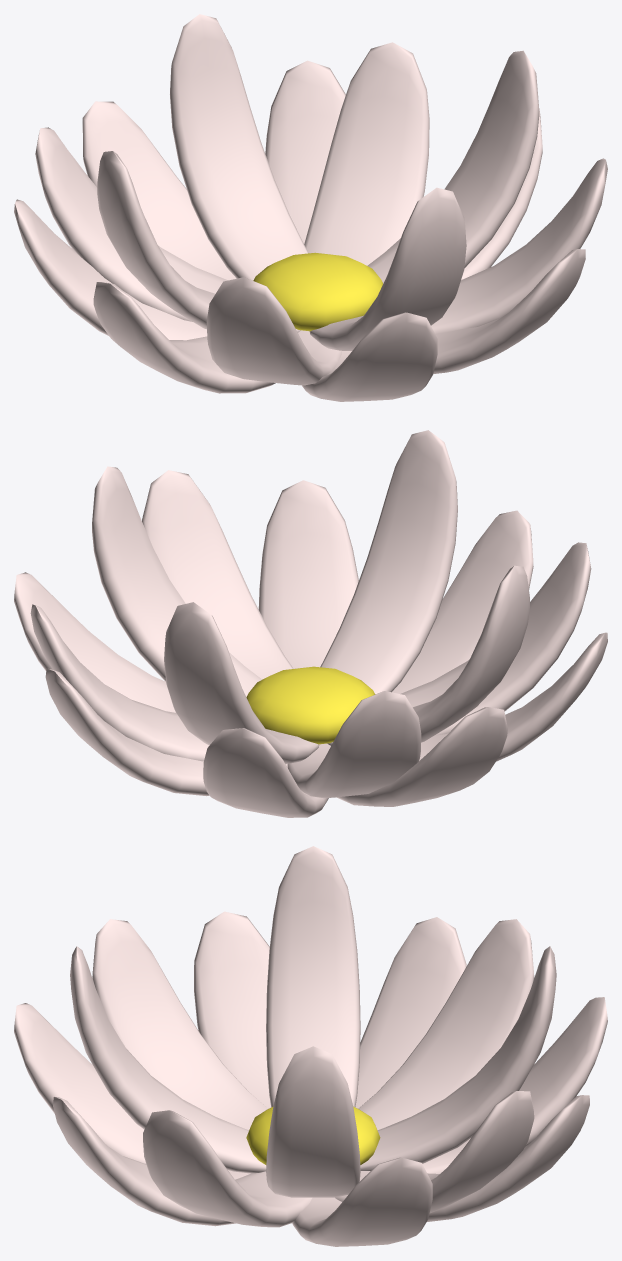
File: Town_15_Water_Lily_1.glb
3 renders of one model, top to bottom at view 1: azimuth 30°, elevation 25°; view 2: azimuth 150°, elevation 25°; view 3: azimuth 270°, elevation 25°, orthographic.
Parts seen in each view (by area): view 1: Town_15_Water_Lily_1; view 2: Town_15_Water_Lily_1; view 3: Town_15_Water_Lily_1.
Boxes of the visible parts, x1,y1,x2,y2 form: Town_15_Water_Lily_1: [14, 14, 607, 401]; Town_15_Water_Lily_1: [14, 430, 607, 817]; Town_15_Water_Lily_1: [14, 846, 607, 1246].
Size of the model in its own units: 0.649 by 0.2942 by 0.6542.
Materials: 1 (1 with a texture image).
